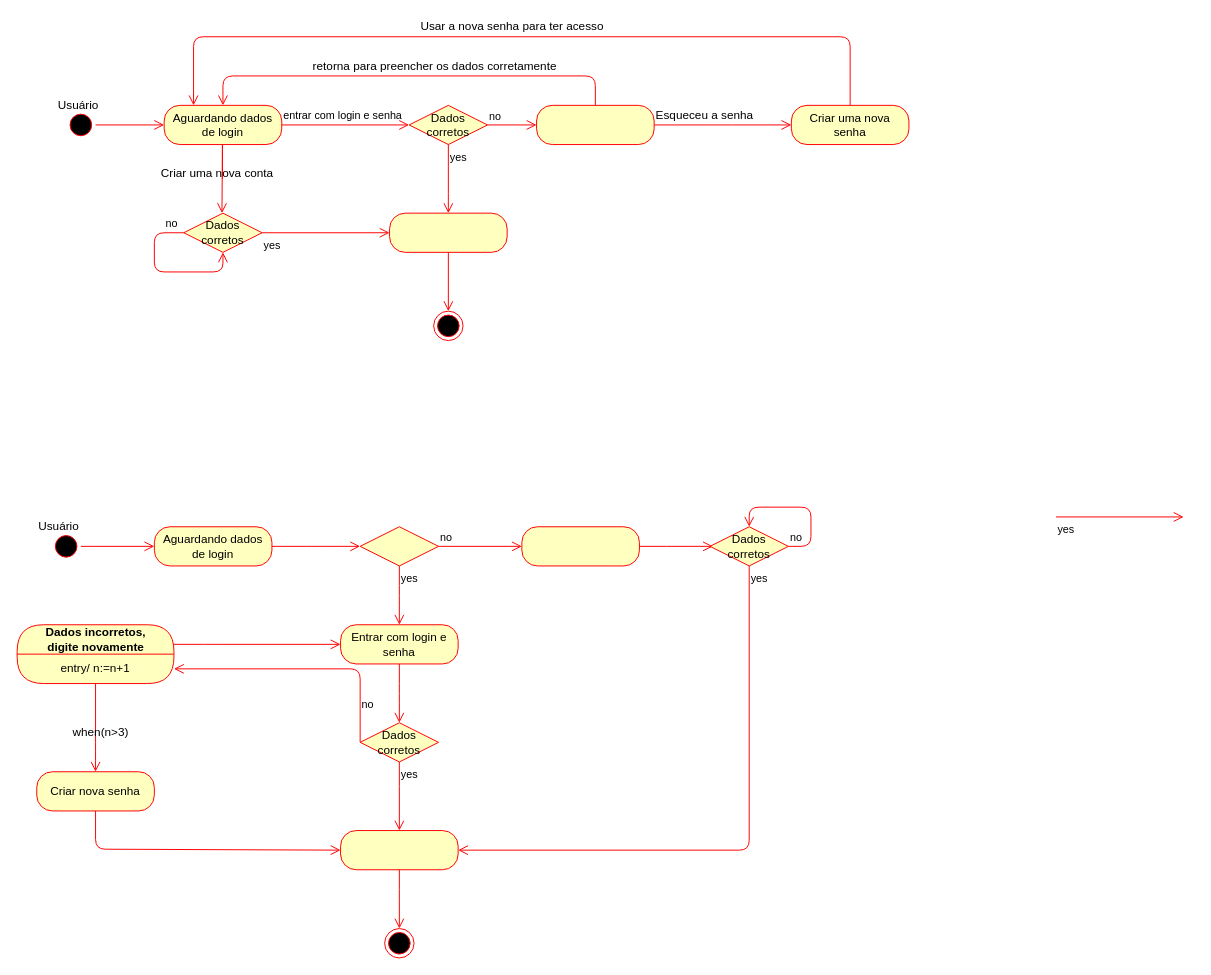
The diagram is 1211 pixels wide and 975 high, and some of its shapes have lost their labels. Each missing label, with the centre of its shape:
Criar uma conta: the point at 580,546
Dados invalidos: the point at 595,124
Entra no aplicativo: the point at 399,850
Entrou no aplicativo: the point at 448,232
Possui conta: the point at 399,546
